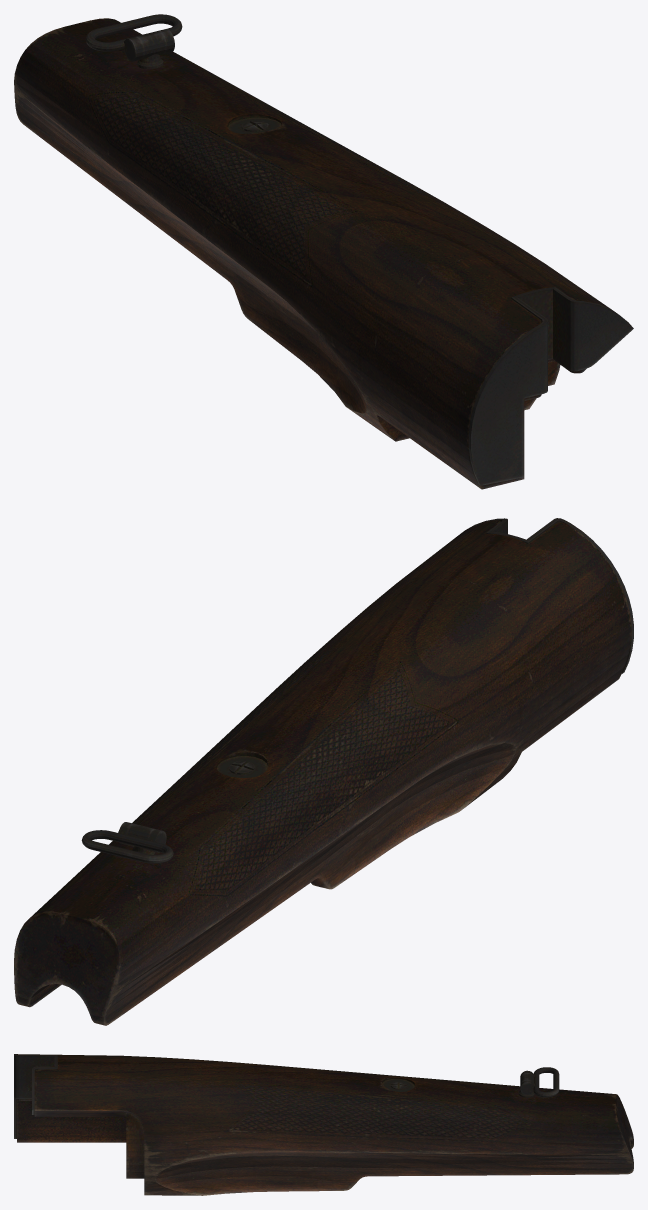
3 renders of one model, top to bottom at view 1: azimuth 30°, elevation 25°; view 2: azimuth 150°, elevation 25°; view 3: azimuth 270°, elevation 25°, orthographic. The views are drawn at different scales.
Visible parts, largest first — view 1: TW_6123649463849f3d843da7c4_PZ_Import; view 2: TW_6123649463849f3d843da7c4_PZ_Import; view 3: TW_6123649463849f3d843da7c4_PZ_Import.
Boxes of the visible parts, <box> form: TW_6123649463849f3d843da7c4_PZ_Import: <box>14,14,633,489</box>; TW_6123649463849f3d843da7c4_PZ_Import: <box>14,518,633,1025</box>; TW_6123649463849f3d843da7c4_PZ_Import: <box>14,1054,633,1195</box>.
Bounding box in the file's own units: 0.0344 × 0.1565 × 0.0319.
1 material, 1 textured.
